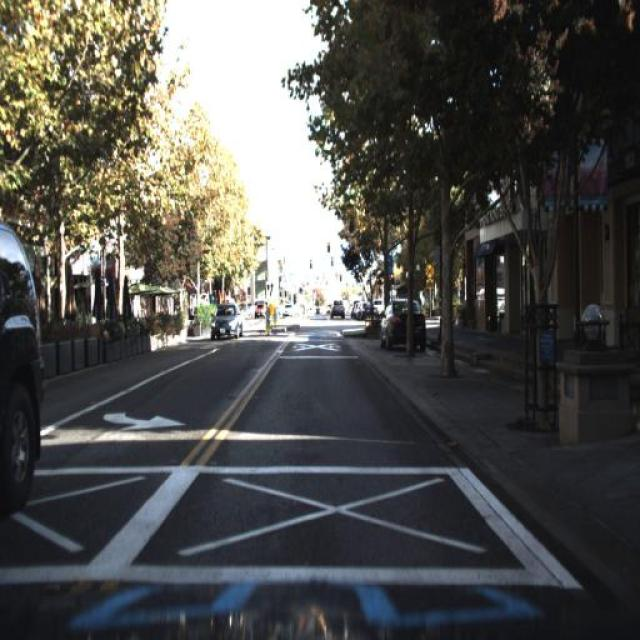car: (0, 214, 46, 528), (378, 300, 427, 355), (204, 297, 250, 347), (331, 295, 350, 327)
